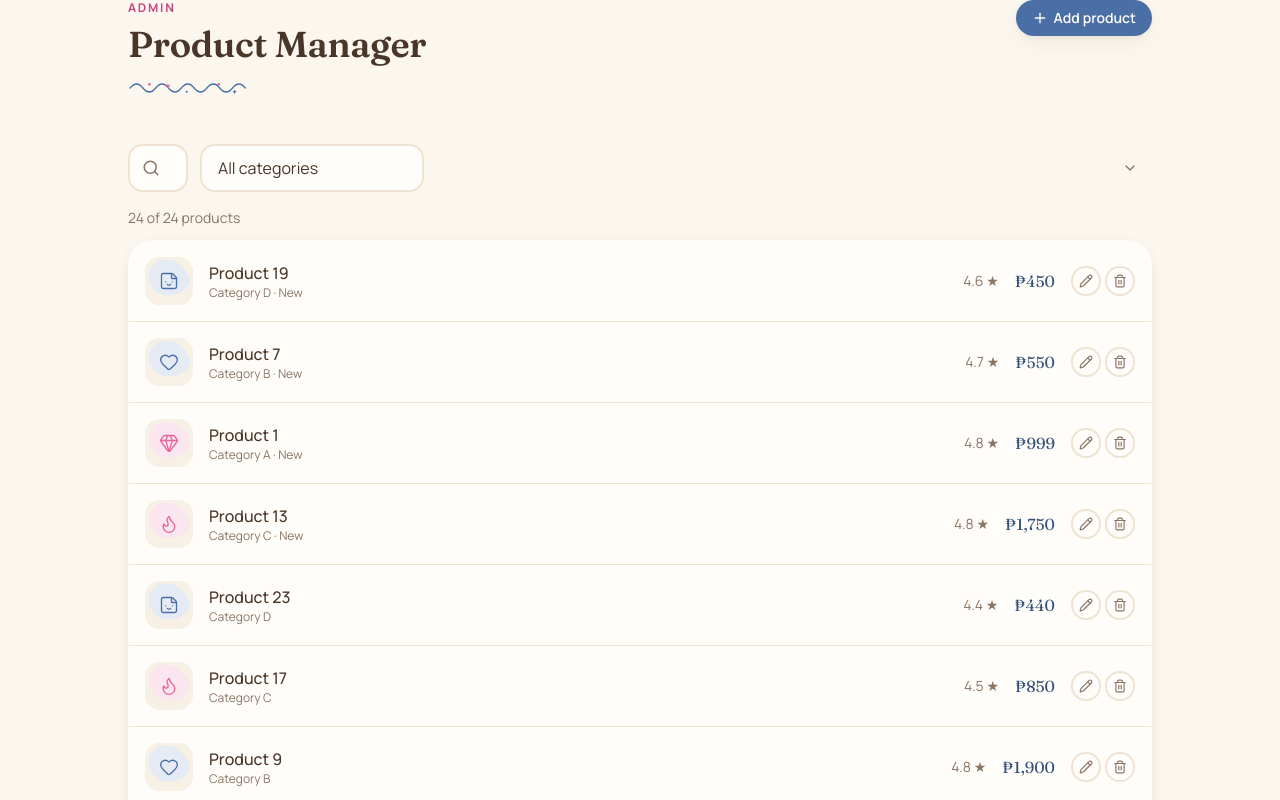
Scenario: ProductManager › blocks creating a product with no name
Click the button "Add product" at coordinates (1084, 18), box top-left (1016, 0), bottom-right (1152, 36)
(page scrolled)
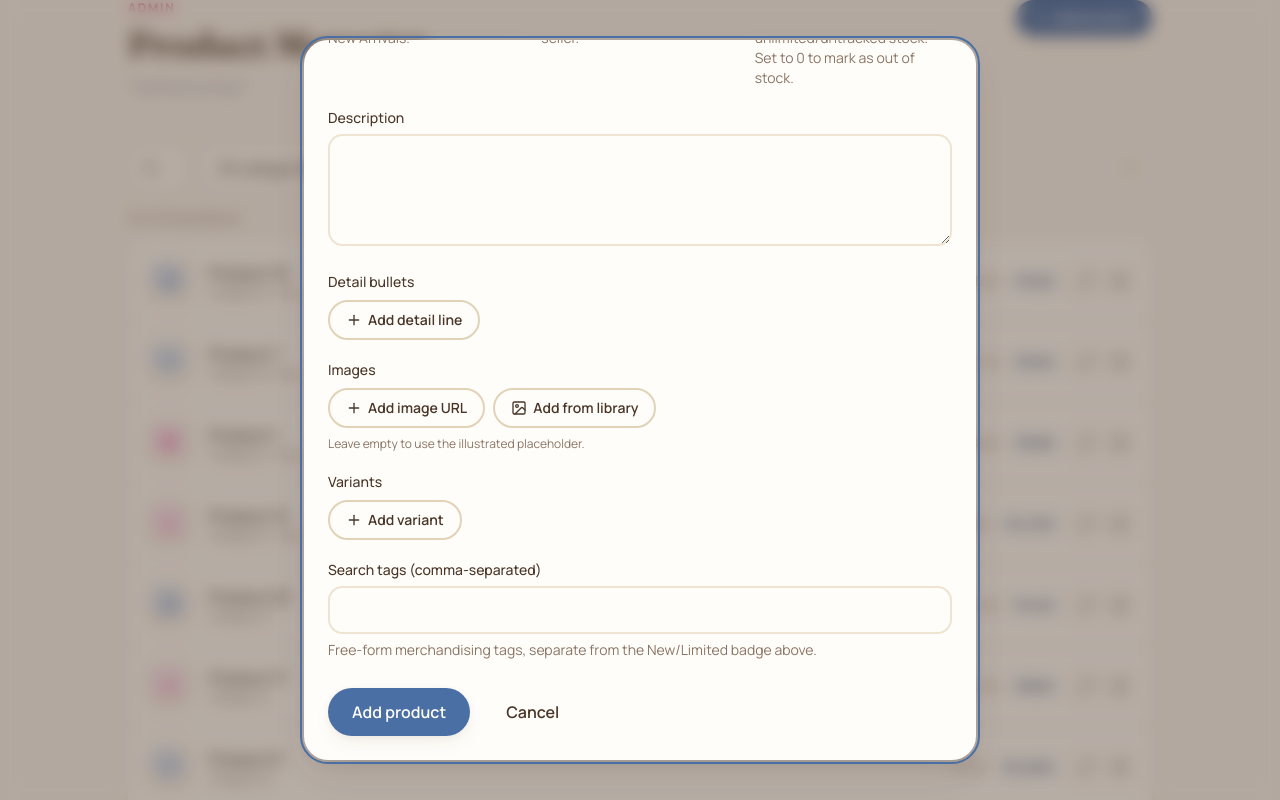
Click the button "Add product" at coordinates (399, 712), box top-left (328, 688), bottom-right (470, 736)
(page scrolled)
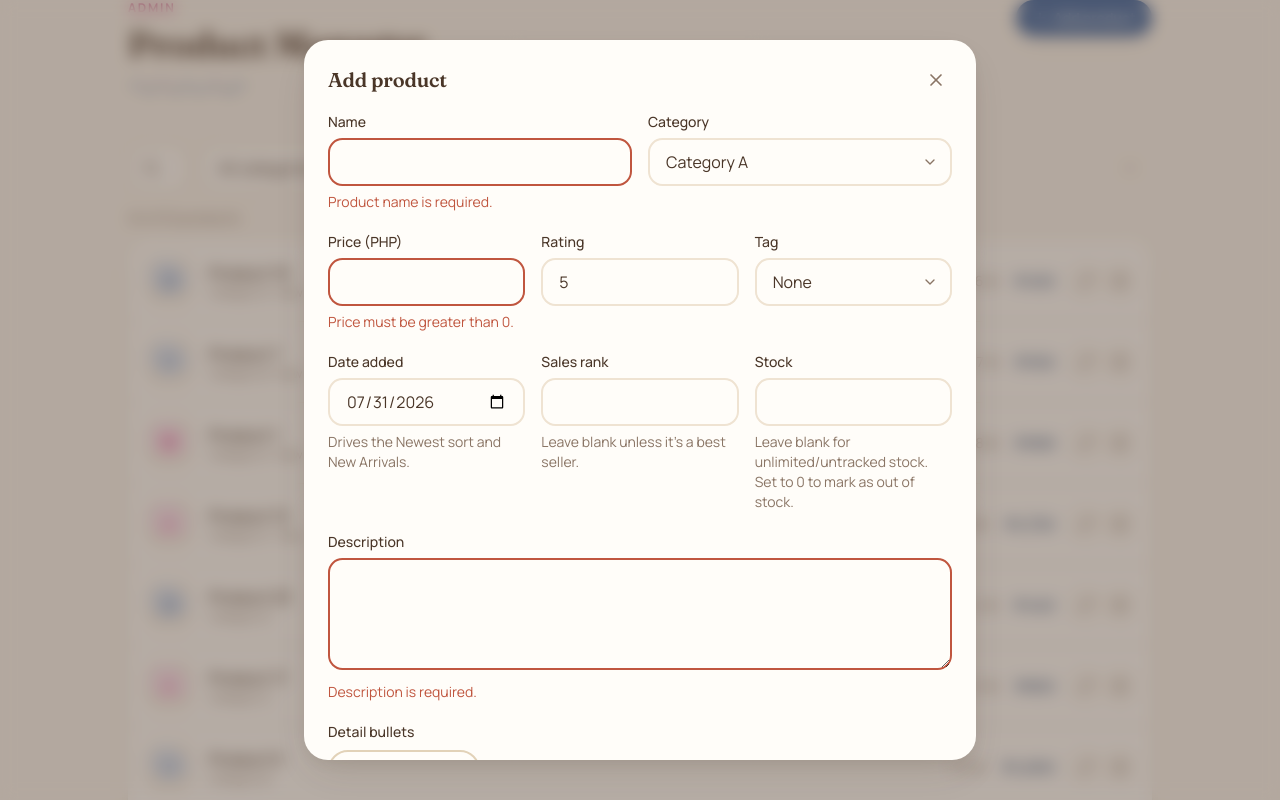
Result: the text "Product name is required." is shown at top-left (328, 192), bottom-right (493, 211)
